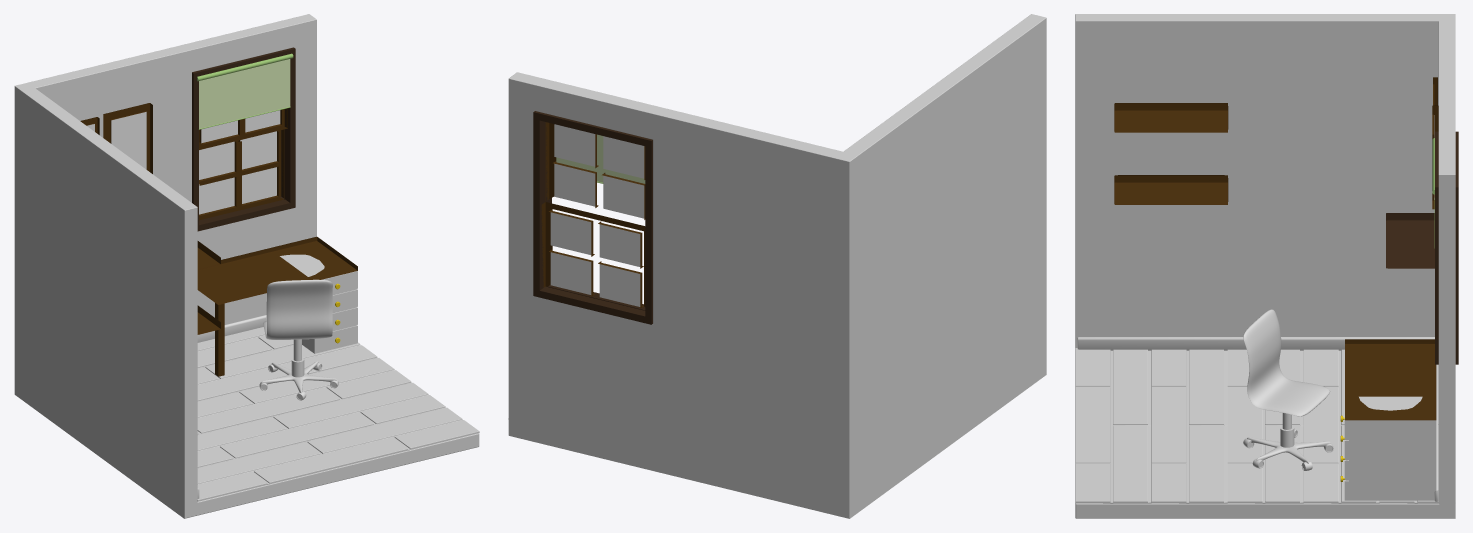
File: HabitacionFerret4.fbx
3 renders of one model, left to right at view 1: azimuth 30°, elevation 25°; view 2: azimuth 150°, elevation 25°; view 3: azimuth 270°, elevation 25°, orthographic. The views are drawn at different scales.
Parts seen in each view (by area): view 1: Walls.001, Floor, Cube.003, Cube, Cube.014, Cube.002, BaseFloor, Cube.006, Cube.001, Cuedro3, Cube.013, Walls.002 (+2 smaller); view 2: Walls.001, Cube.003, Cube.013, Cube.002, Cube.014; view 3: Walls.001, Floor, Cube.001, Cube, BaseFloor, Cube.006, Walls.002, Estante1, Estante2, Estante3, Cube.002, Circle (+1 smaller).
Part boxes in pixels (box(x1,y1,x2,y2)): Walls.001: box(14, 14, 316, 518); Floor: box(197, 327, 479, 501); Cube.003: box(199, 126, 284, 220); Cube: box(197, 236, 357, 304); Cube.014: box(197, 53, 293, 129); Cube.002: box(192, 47, 295, 231); BaseFloor: box(185, 433, 479, 518); Cube.006: box(263, 279, 332, 339); Cube.001: box(280, 254, 357, 353); Cuedro3: box(103, 103, 152, 173); Cube.013: box(199, 108, 287, 149); Walls.002: box(197, 315, 266, 498); Walls.001: box(508, 14, 1046, 518); Cube.003: box(541, 202, 645, 308); Cube.013: box(545, 122, 645, 219); Cube.002: box(533, 111, 652, 324); Cube.014: box(556, 134, 645, 183); Walls.001: box(1075, 14, 1455, 518); Floor: box(1075, 348, 1455, 503); Cube.001: box(1344, 396, 1435, 500); Cube: box(1345, 339, 1436, 420); BaseFloor: box(1075, 502, 1454, 518); Cube.006: box(1243, 309, 1330, 416); Walls.002: box(1077, 337, 1438, 501); Estante1: box(1114, 175, 1228, 204); Estante2: box(1114, 103, 1228, 132); Estante3: box(1386, 213, 1434, 268); Cube.002: box(1435, 131, 1458, 364); Circle: box(1247, 437, 1330, 463).
Size of the model in its own units: 400 by 400 by 403.
